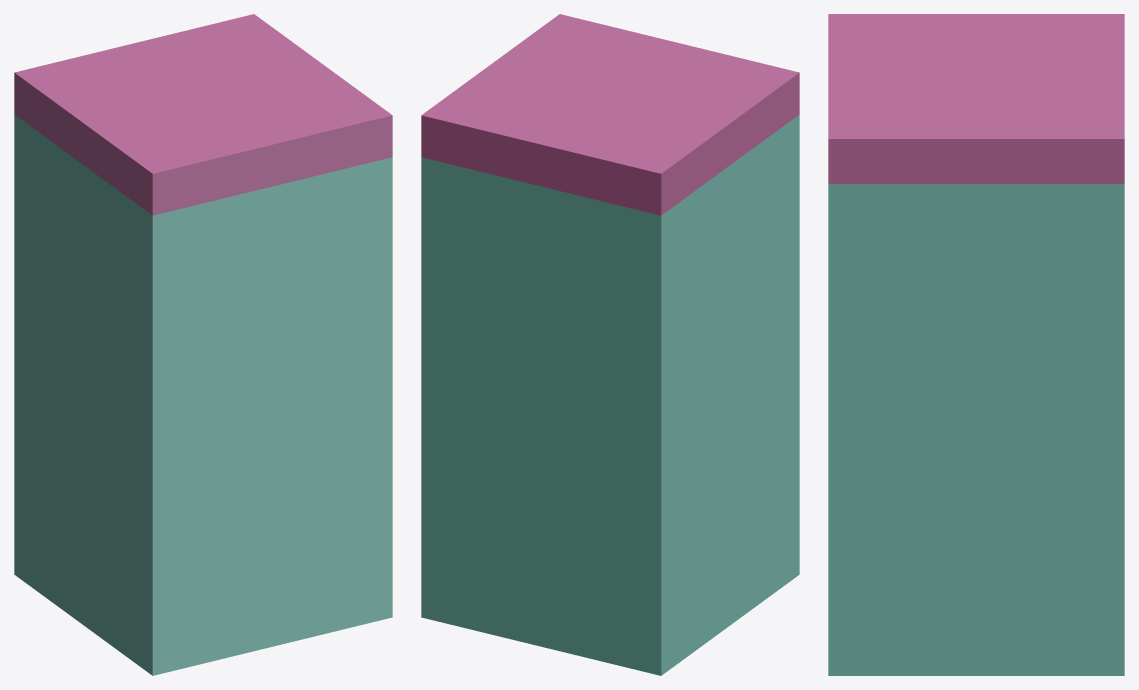
Rendered from squidgame_props_platform3_bule.fbx.
3 views of the same model, side by side, from view 1: azimuth 30°, elevation 25°; view 2: azimuth 150°, elevation 25°; view 3: azimuth 270°, elevation 25° (orthographic). The views are drawn at different scales.
Parts seen in each view (by area): view 1: squidgame_props_platform3_bule; view 2: squidgame_props_platform3_bule; view 3: squidgame_props_platform3_bule.
Boxes of the visible parts, bbox=[...] form: squidgame_props_platform3_bule: bbox=[14, 14, 392, 675]; squidgame_props_platform3_bule: bbox=[421, 14, 799, 675]; squidgame_props_platform3_bule: bbox=[828, 14, 1124, 675].
Size of the model in its own units: 1.5 by 3 by 1.5.
